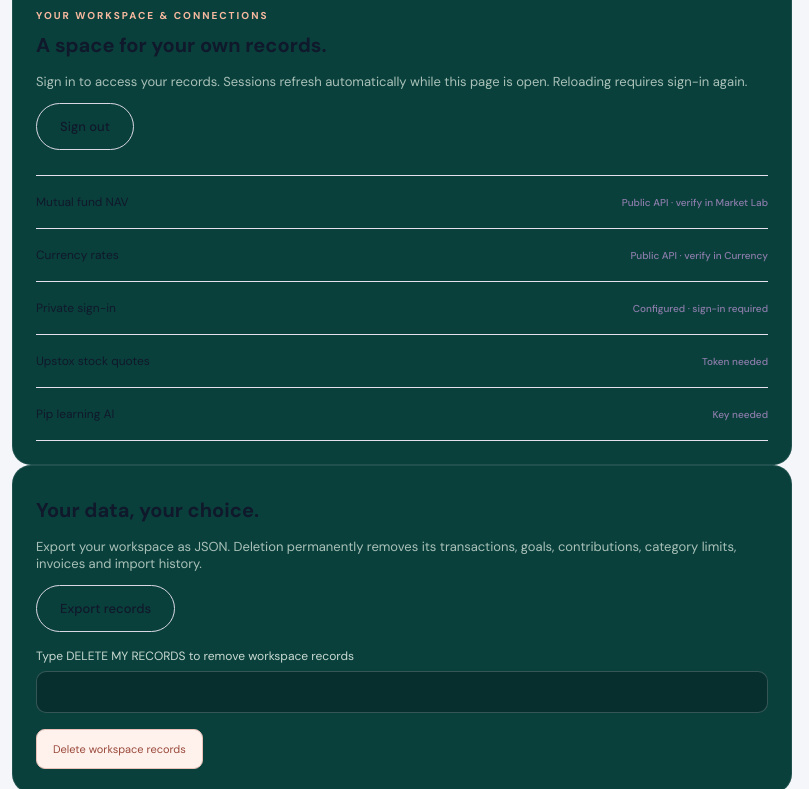
Scenario: requires typed confirmation before deleting private records
Expected: the button "Sign out" is shown, [36,103,134,150]
Expected: the button "Delete workspace records" is disabled, [36,729,203,769]
Step 1. Type "DELETE MY RECORDS" into the field labelled "Type DELETE MY RECORDS to remove workspace records" → (402, 692), box [36,671,768,713]
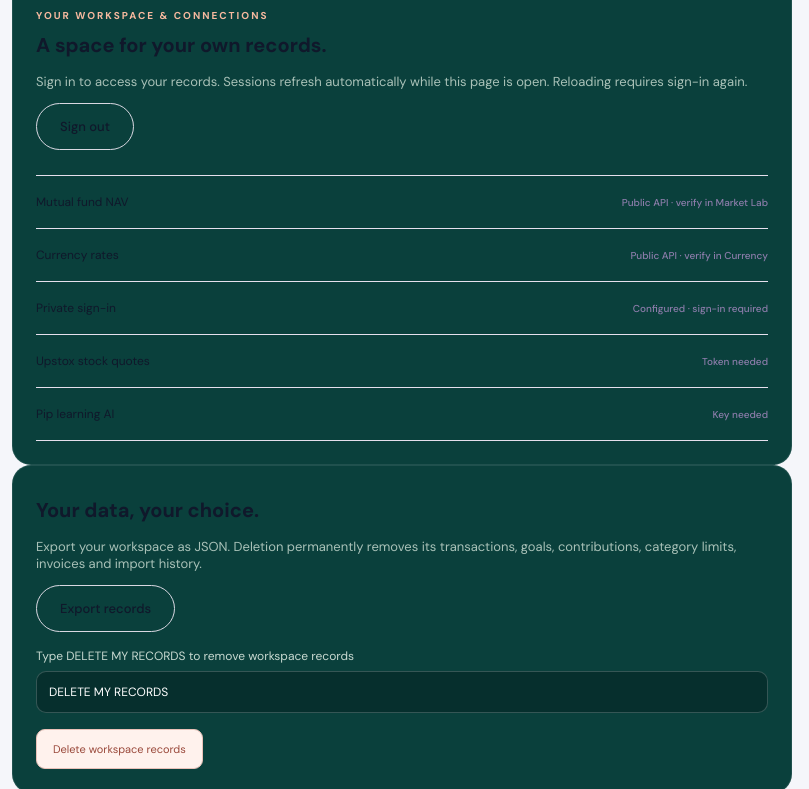
Step 2. Click the button "Delete workspace records" → (119, 749), box [36,729,203,769]
(page scrolled)
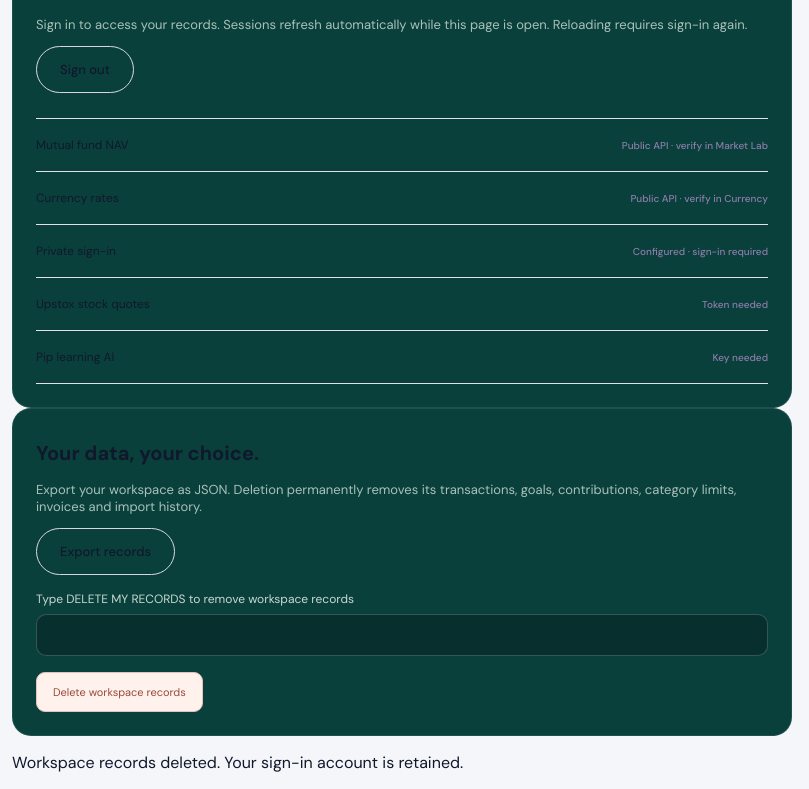
Expected: the text "Workspace records deleted. Your sign-in account is retained." is shown, [12,752,463,773]
